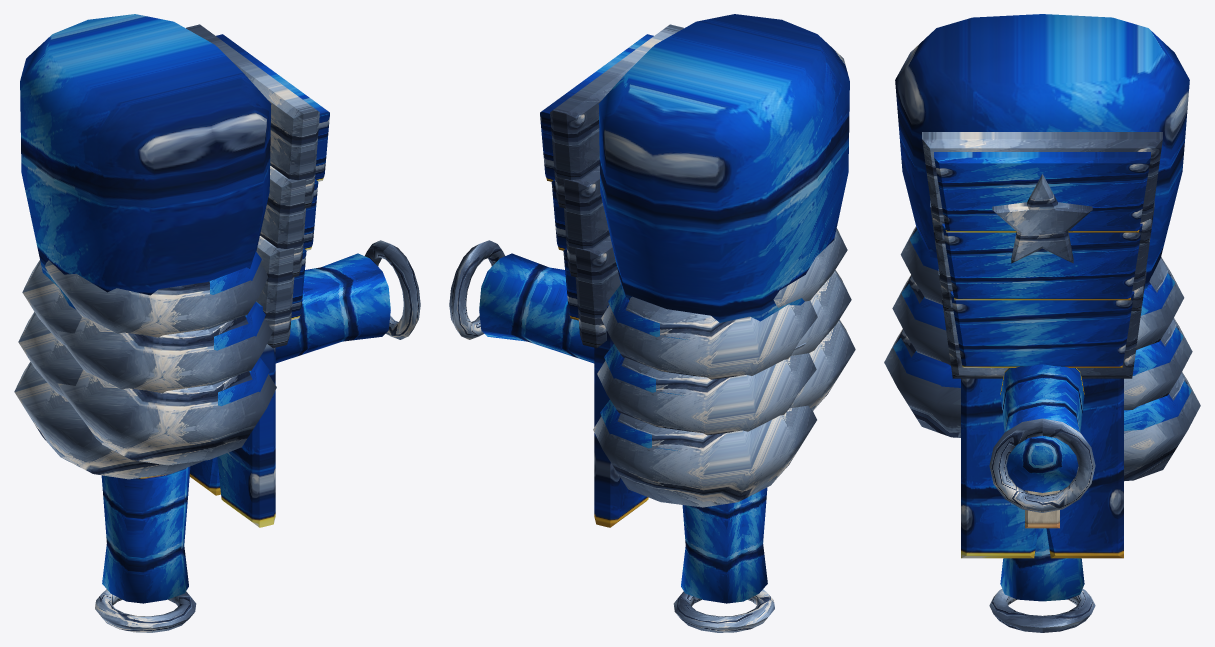
Rendered from cobalt-armor.glb.
3 renders of one model, left to right at view 1: azimuth 30°, elevation 25°; view 2: azimuth 150°, elevation 25°; view 3: azimuth 270°, elevation 25°, orthographic. The views are drawn at different scales.
Visible parts, largest first — view 1: chest, arm_R, arm_L, hips; view 2: chest, arm_L, arm_R, hips; view 3: chest, arm_R, hips, arm_L.
Boxes of the visible parts, left/top/right/bottom form: chest: left=20, top=14, right=329, bottom=348; arm_R: left=45, top=240, right=420, bottom=465; arm_L: left=14, top=260, right=203, bottom=632; hips: left=189, top=302, right=275, bottom=527; chest: left=540, top=14, right=849, bottom=350; arm_L: left=593, top=284, right=817, bottom=632; arm_R: left=449, top=228, right=855, bottom=410; hips: left=594, top=305, right=648, bottom=527; chest: left=895, top=14, right=1189, bottom=378; arm_R: left=884, top=226, right=1095, bottom=512; hips: left=961, top=378, right=1123, bottom=558; arm_L: left=989, top=257, right=1200, bottom=632.
Bounding box in the file's own units: 0.4456 × 0.6807 × 0.346.
3 materials, 3 textured.
